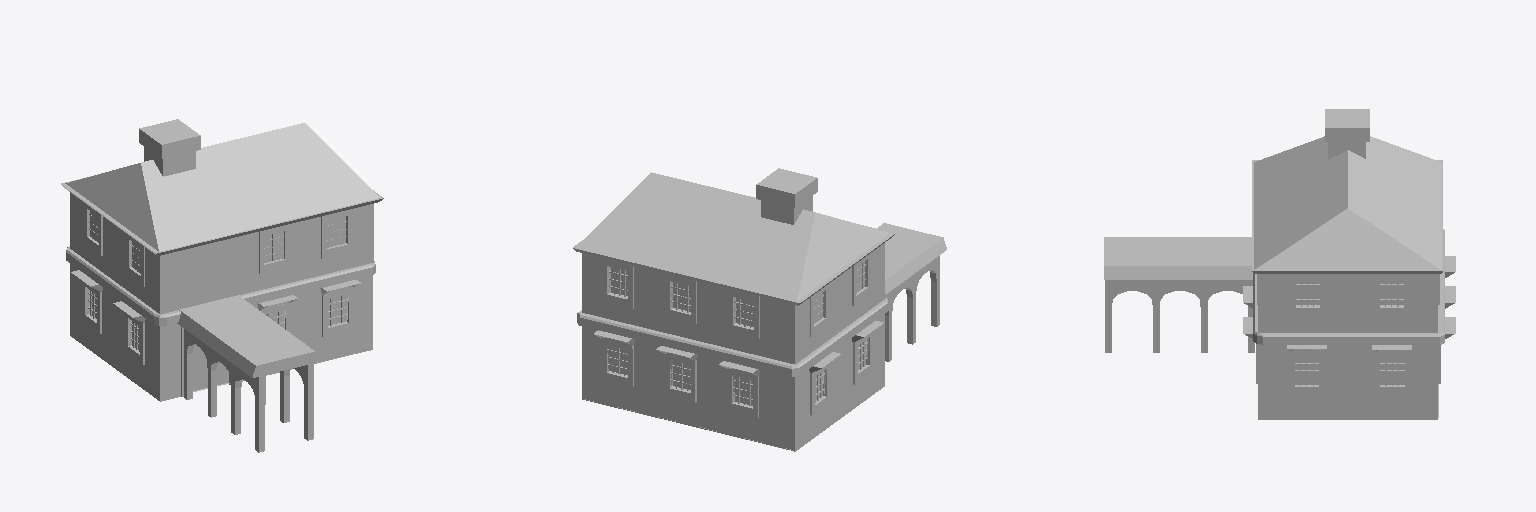
The model's file is trenthouseobj.obj.
3 renders of one model, left to right at view 1: azimuth 30°, elevation 25°; view 2: azimuth 150°, elevation 25°; view 3: azimuth 270°, elevation 25°, orthographic.
Parts seen in each view (by area): view 1: group1 pCube57, group1 pCube21, group1 pCube4, group1 pCube31 polySurface18, pCube1 group1, group1 pCube31 polySurface20, group1 pCube60, group1 pCube53, group1 pCube59, group1 pCube2, group1 pCube56, group1 pCube52 (+9 smaller); view 2: group1 pCube57, group1 pCube34, group1 pCube32, group1 pCube35, group1 pCube31 polySurface18, group1 pCube60, group1 pCube31 polySurface20, group1 pCube4, group1 pCube53, group1 pCube59, group1 pCube56, group1 pCube39 (+10 smaller); view 3: group1 pCube57, group1 pCube30 polySurface29, group1 pCube30 polySurface31, group1 pCube4, group1 pCube52, group1 pCube60, group1 pCube59, group1 pCube56, group1 pCube30 polySurface30, group1 pCube30 polySurface32, group1 pCube30 polySurface24, group1 pCube30 polySurface27.
Part boxes in pixels (x1,y1,x2,y2): group1 pCube57: (65,123,379,251); group1 pCube21: (159,204,373,314); group1 pCube4: (177,295,318,377); group1 pCube31 polySurface18: (70,263,158,400); pCube1 group1: (242,276,372,381); group1 pCube31 polySurface20: (70,192,158,312); group1 pCube60: (66,246,375,325); group1 pCube53: (184,329,264,452); group1 pCube59: (139,119,200,158); group1 pCube2: (159,323,180,401); group1 pCube56: (61,176,383,255); group1 pCube52: (241,363,313,440); group1 pCube57: (576,172,889,301); group1 pCube34: (582,253,794,363); group1 pCube32: (582,326,717,430); group1 pCube35: (645,342,792,450); group1 pCube31 polySurface18: (793,315,883,451); group1 pCube60: (577,298,887,376); group1 pCube31 polySurface20: (795,244,883,364); group1 pCube4: (877,223,946,294); group1 pCube53: (885,256,939,361); group1 pCube59: (756,168,817,207); group1 pCube56: (573,224,895,305); group1 pCube39: (603,258,633,308); group1 pCube57: (1254,136,1441,269); group1 pCube30 polySurface29: (1259,344,1437,419); group1 pCube30 polySurface31: (1262,274,1434,332); group1 pCube4: (1104,237,1252,279); group1 pCube52: (1105,280,1254,352); group1 pCube60: (1253,229,1444,344); group1 pCube59: (1325,109,1369,141); group1 pCube56: (1252,160,1442,273); group1 pCube30 polySurface30: (1374,274,1408,315); group1 pCube30 polySurface32: (1290,274,1324,315); group1 pCube30 polySurface24: (1375,352,1409,394); group1 pCube30 polySurface27: (1289,352,1323,394).
Bounding box in the file's own units: 39.68 × 35.52 × 50.36.